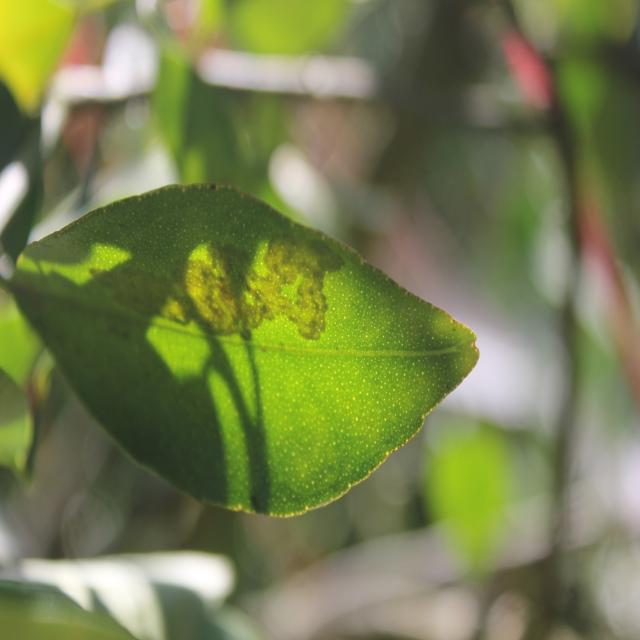canker: (85, 230, 342, 386)
